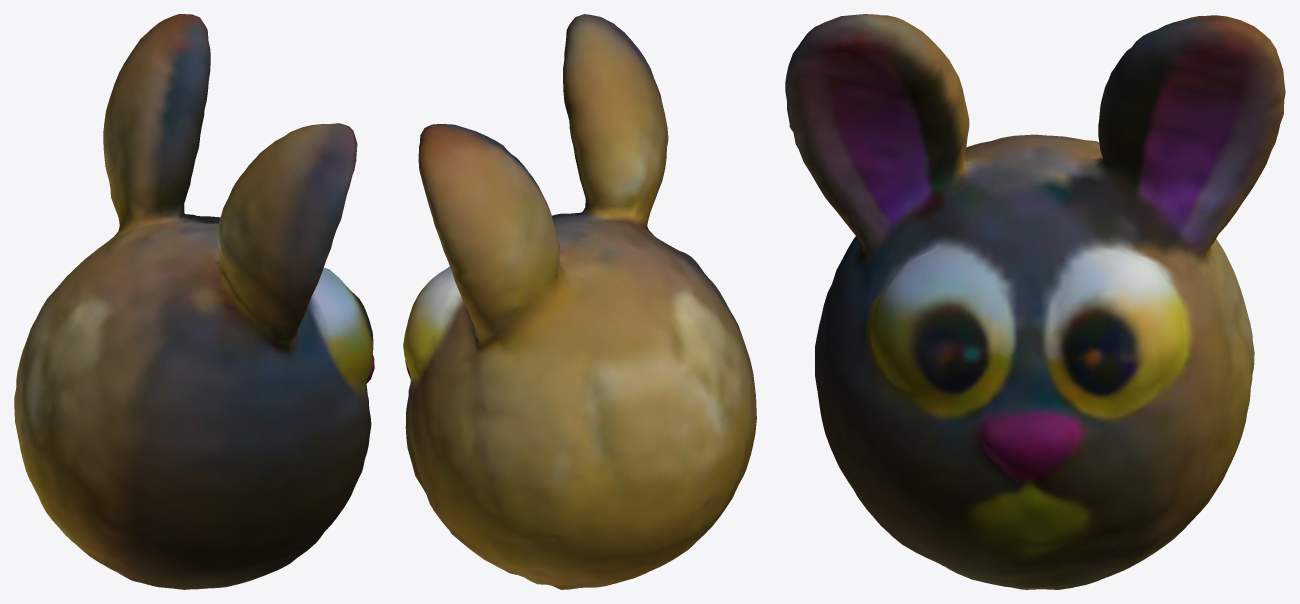
The model's file is 026_Create_rabbit_with_Oval_face_with_large_brown_eyes_sof_0614161133_preview.obj.
3 renders of one model, left to right at view 1: azimuth 30°, elevation 25°; view 2: azimuth 150°, elevation 25°; view 3: azimuth 270°, elevation 25°, orthographic. The views are drawn at different scales.
Visible parts, largest first — view 1: Mesh1; view 2: Mesh1; view 3: Mesh1.
Boxes of the visible parts, <box> form: Mesh1: <box>14,14,374,589</box>; Mesh1: <box>403,14,756,589</box>; Mesh1: <box>785,14,1285,589</box>.
Bounding box in the file's own units: 0.8408 × 1.2 × 0.9142.
1 material, 1 textured.
